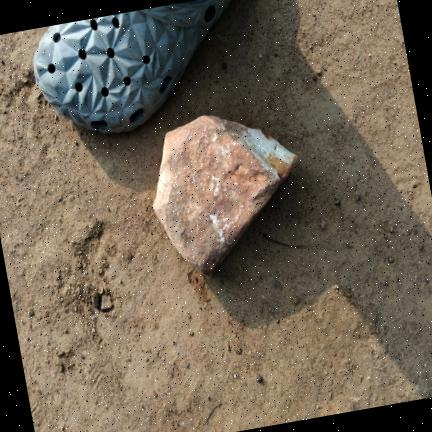Rocks: (153, 116, 296, 275), (101, 294, 112, 311), (92, 292, 99, 308), (273, 281, 282, 290), (418, 242, 424, 250), (389, 254, 394, 263), (321, 220, 326, 229), (257, 376, 263, 382), (335, 199, 341, 205), (329, 391, 333, 399), (356, 195, 361, 201)
